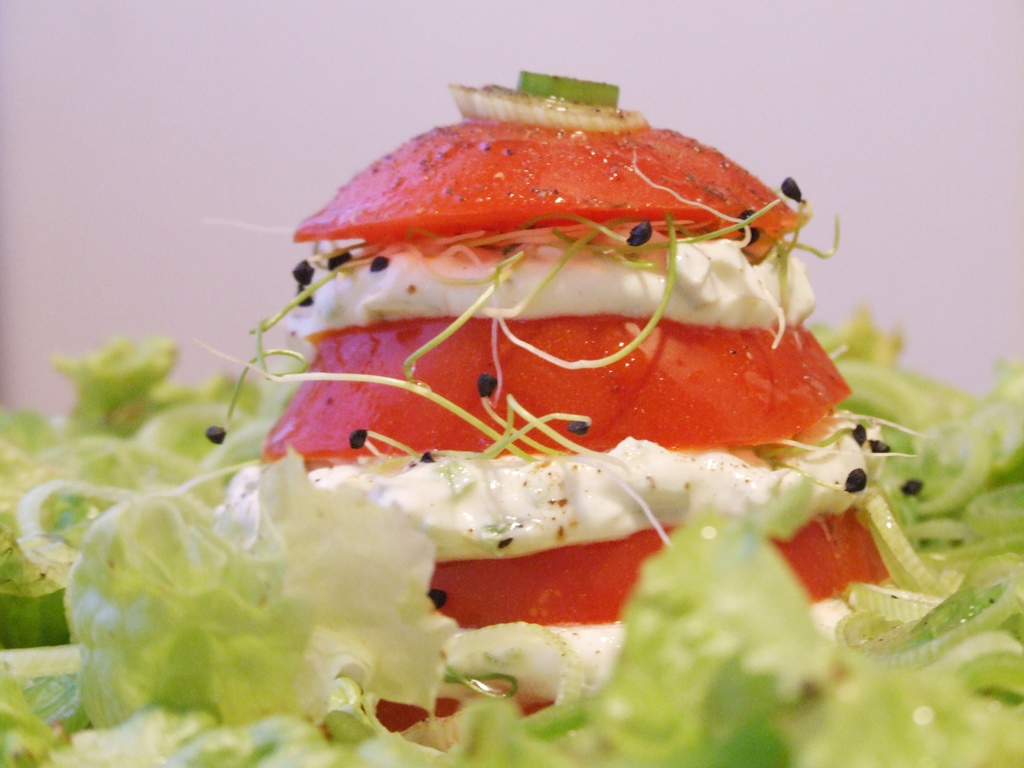chopped lettuce: (73, 479, 442, 761)
